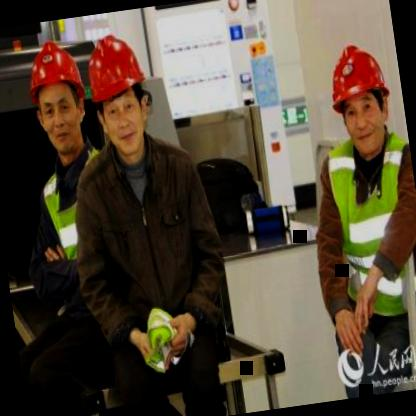helmet: (80, 21, 162, 160), (19, 28, 96, 162), (324, 33, 403, 160)
